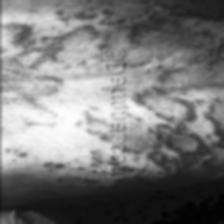Unclassified: (0, 23, 104, 189), (129, 0, 224, 179), (41, 0, 138, 36)
